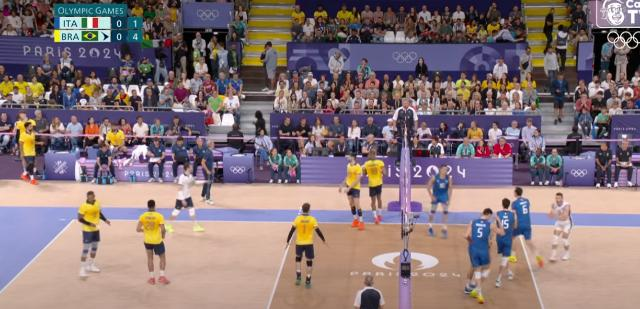Levantador: (294, 203, 316, 291), (512, 188, 532, 250)
Libero: (548, 193, 570, 257), (174, 162, 196, 219)
